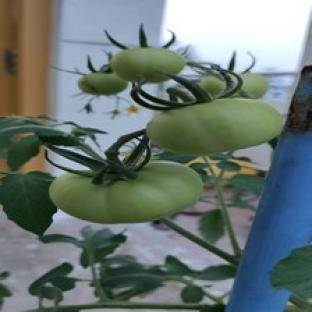Tomato: (49, 161, 203, 224), (147, 98, 282, 154), (111, 48, 185, 82), (78, 72, 128, 96), (240, 73, 268, 98), (200, 76, 225, 97)
